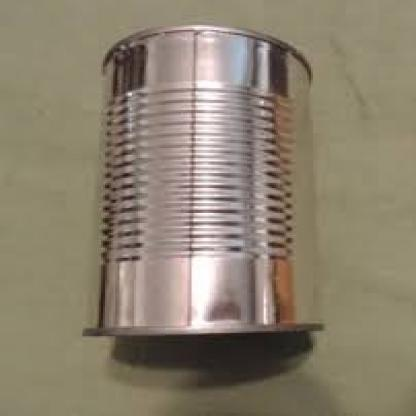Metal: (86, 19, 334, 374)
